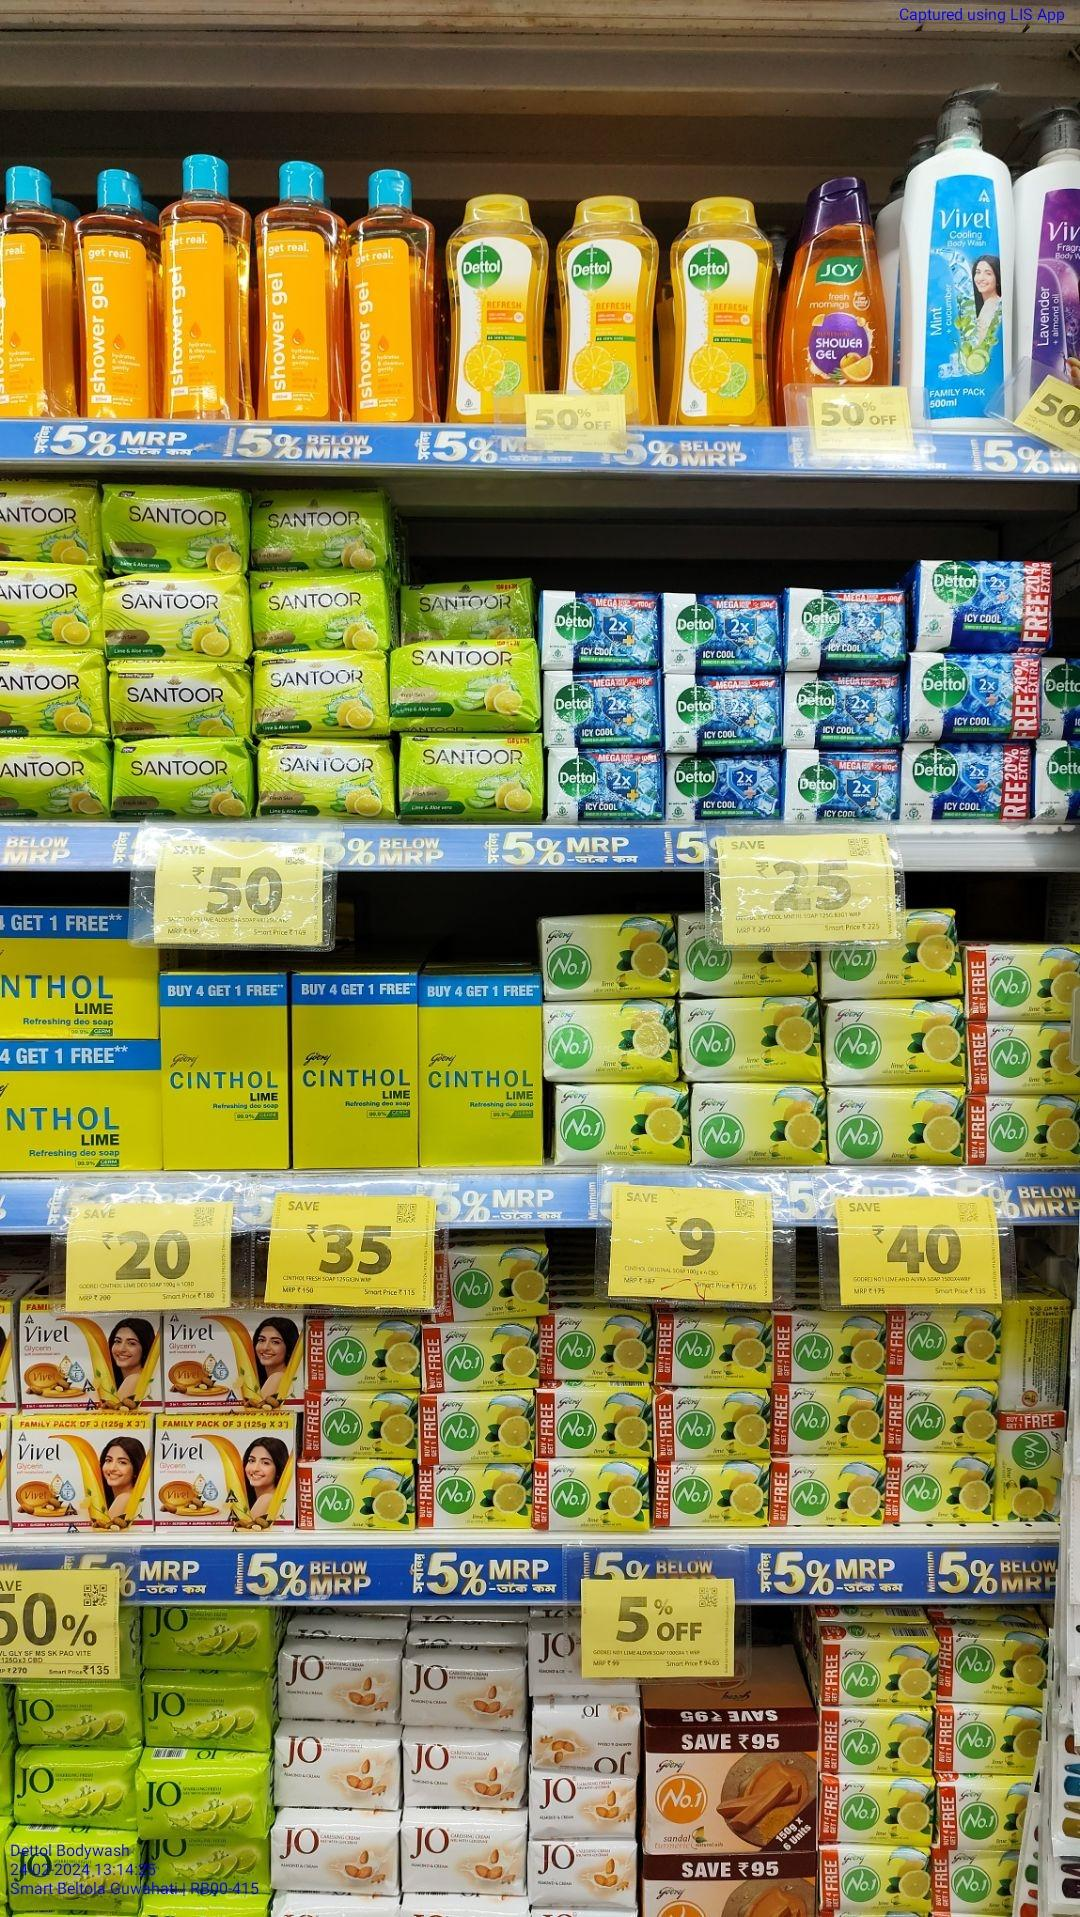Dettol_Bodywash_Refresh: (674, 197, 774, 432), (561, 194, 659, 428), (445, 196, 540, 419)
Joy_Shower_Gel_Mandarin_and_Lemongrass_250ML: (792, 176, 888, 427)
